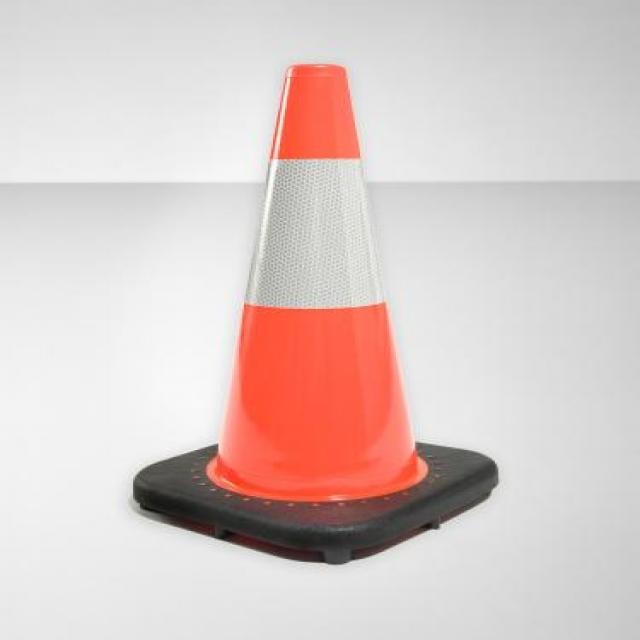Cone: (128, 61, 505, 568)
